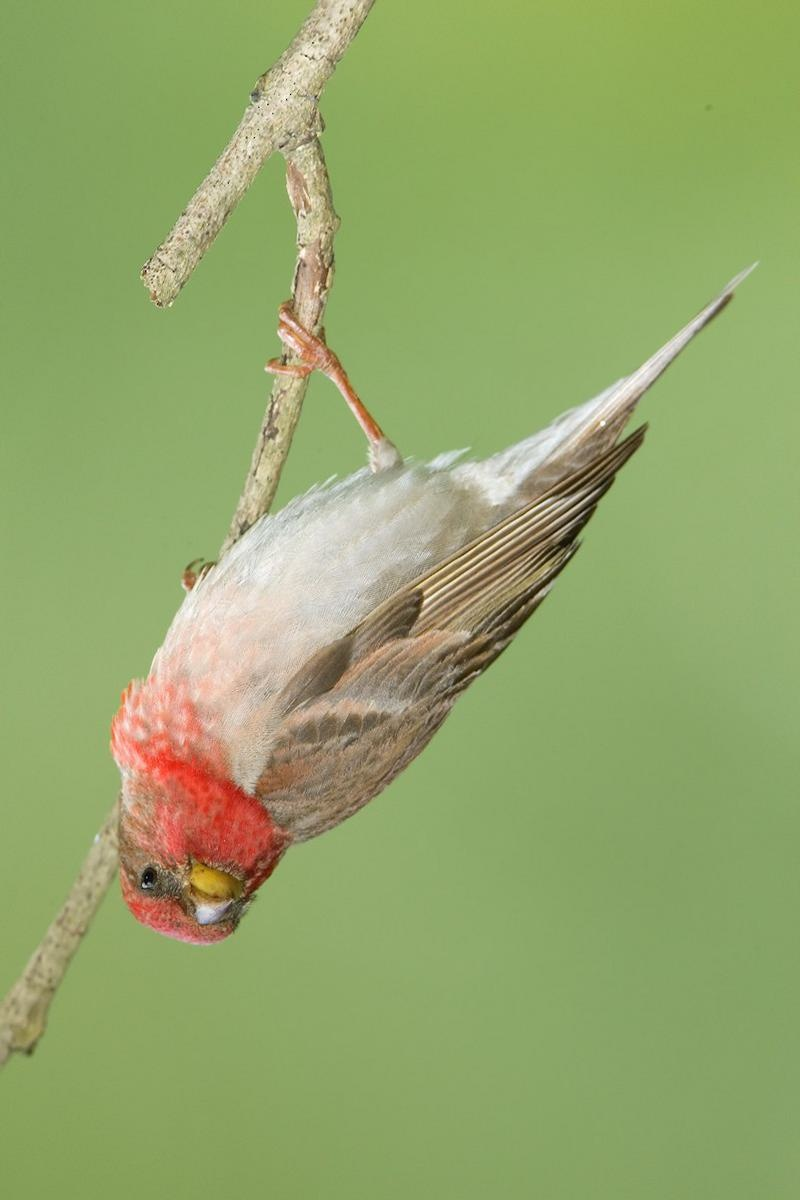rosefinch: (114, 431, 613, 957)
